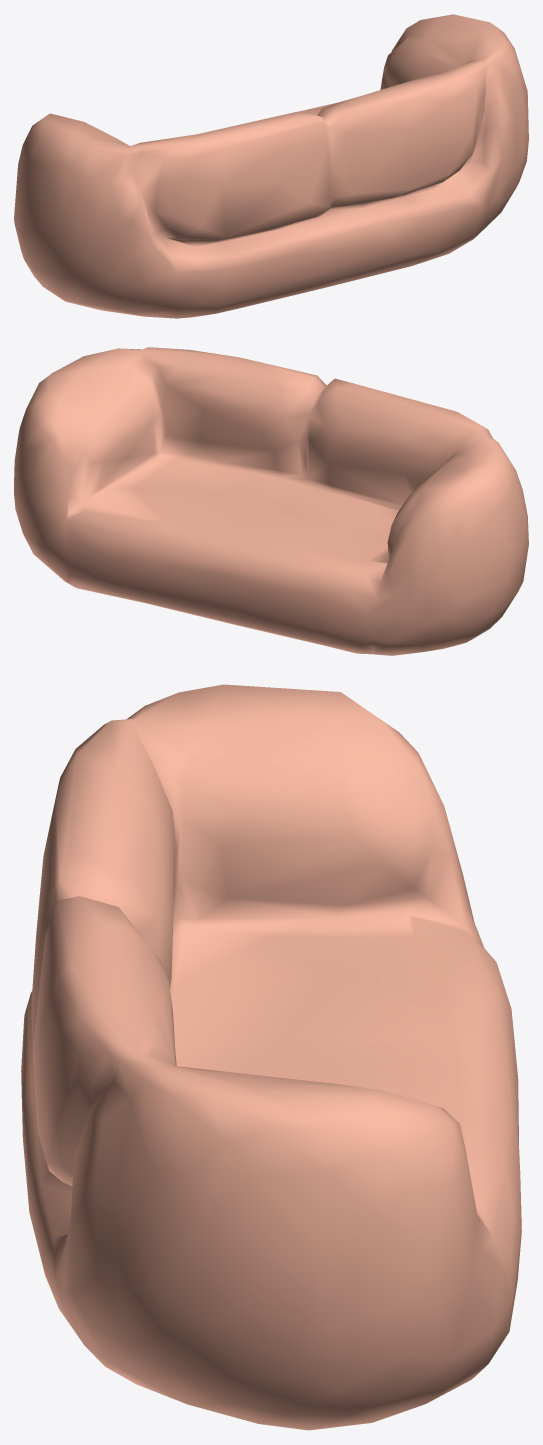
File: sofa01.fbx
3 views of the same model, one above another, from view 1: azimuth 30°, elevation 25°; view 2: azimuth 150°, elevation 25°; view 3: azimuth 270°, elevation 25° (orthographic). The views are drawn at different scales.
Parts seen in each view (by area): view 1: high_poly; view 2: high_poly; view 3: high_poly.
Part boxes in pixels (box(x1,y1,x2,y2)): high_poly: box(14, 14, 528, 318); high_poly: box(14, 347, 528, 655); high_poly: box(21, 684, 521, 1430).
Bounding box in the file's own units: 504 × 174 × 229.
